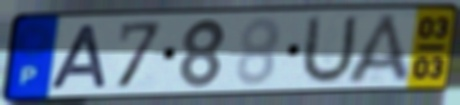7: (115, 19, 167, 92)
8: (232, 14, 285, 89), (177, 17, 228, 90)
A: (343, 11, 416, 86), (46, 22, 111, 92)
U: (296, 12, 361, 88)
